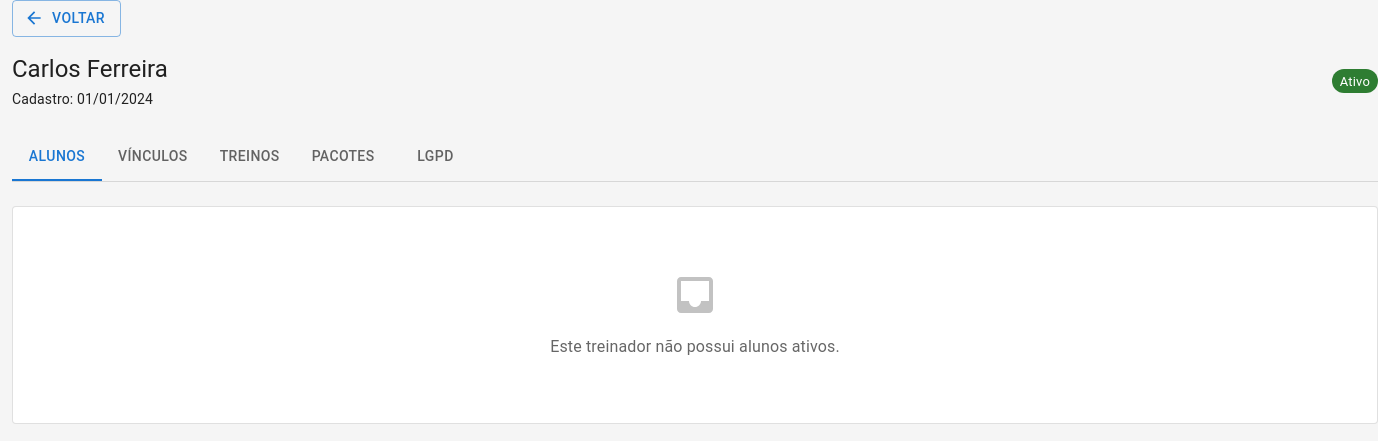
Scenario: DetalheTreinadorAdminPage — tabs e pacotes › tab Pacotes → sem pacotes exibe 'Nenhum pacote cadastrado.'
Expected: the heading "Carlos Ferreira" is shown, [12,52,168,84]
Click the tab "Pacotes" at (343, 156), box [296,132,390,180]
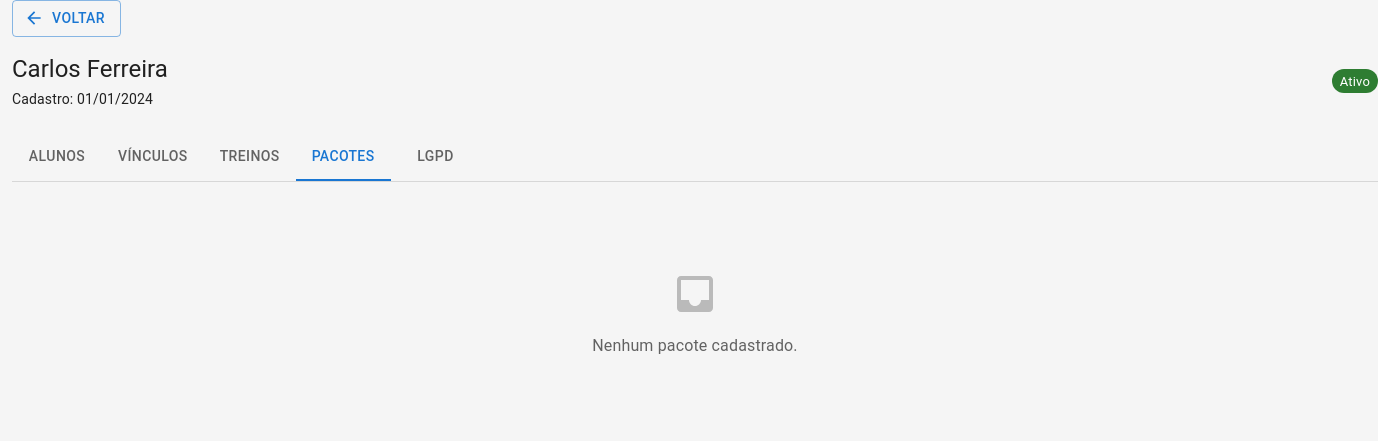
Result: the text "Nenhum pacote cadastrado." is shown at [592,334,798,358]
